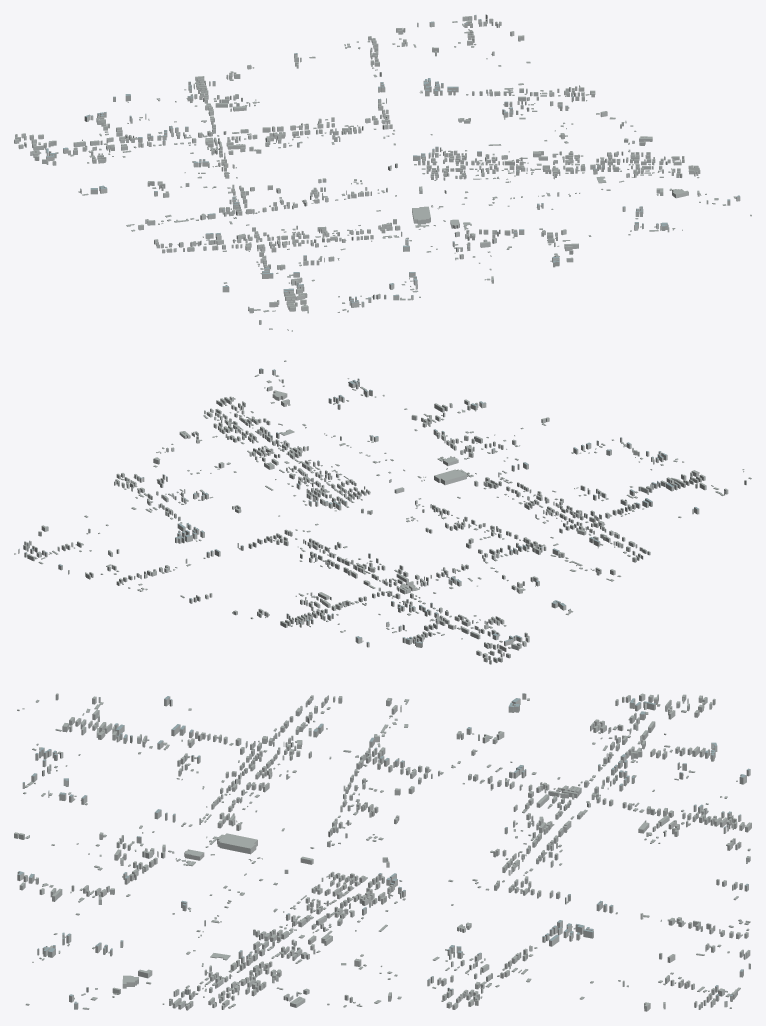
The model's file is far.glb.
3 renders of one model, top to bottom at view 1: azimuth 30°, elevation 25°; view 2: azimuth 150°, elevation 25°; view 3: azimuth 270°, elevation 25°, orthographic. The views are drawn at different scales.
Bounding box in the file's own units: 2102 × 23.9 × 2095.
